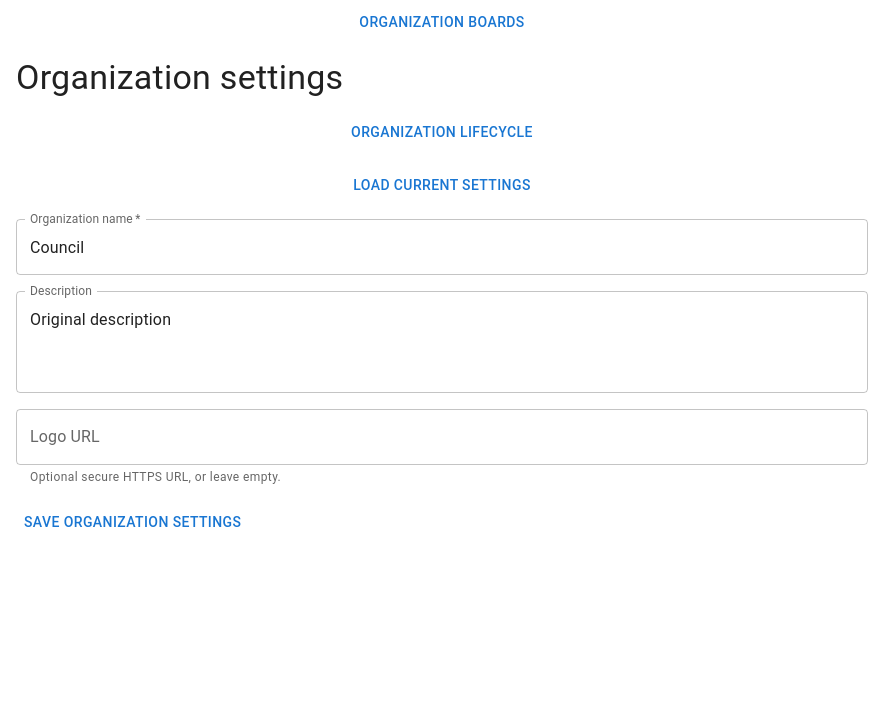
Test: PRD-03-TC-01/05/06/08 Organization metadata administration › preserves a submitted edit and exact retry key when its final account check is unavailable
This screenshot has width=885, height=701.
Expected: the field labelled "Organization name *" is shown, [16,220,868,276]
Click the button "Save Organization settings" at x=133, y=523, box [16,504,249,541]
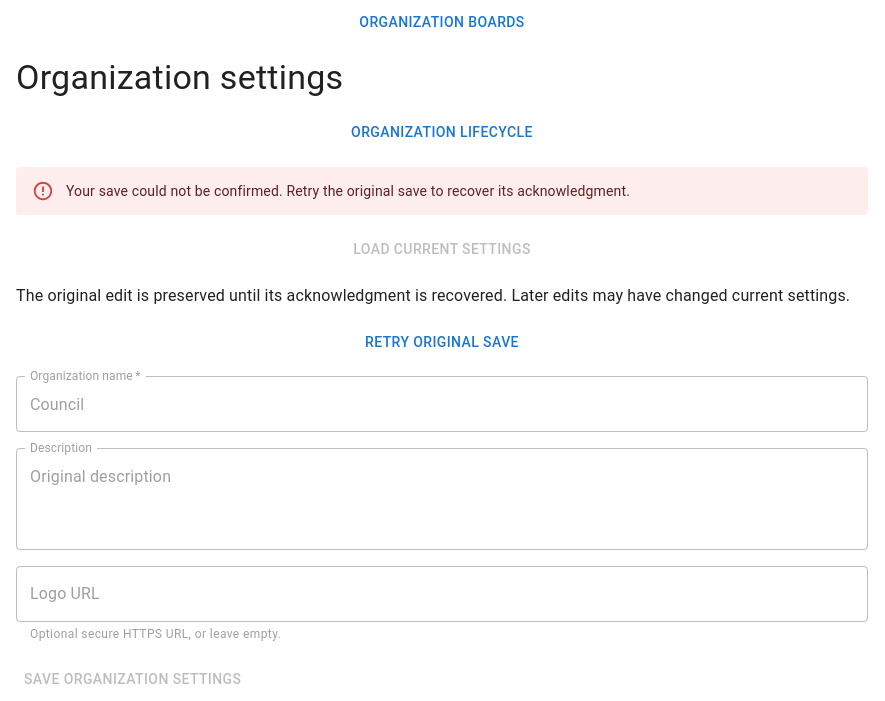
Click the button "Retry original save" at x=442, y=342, box [16,324,868,360]
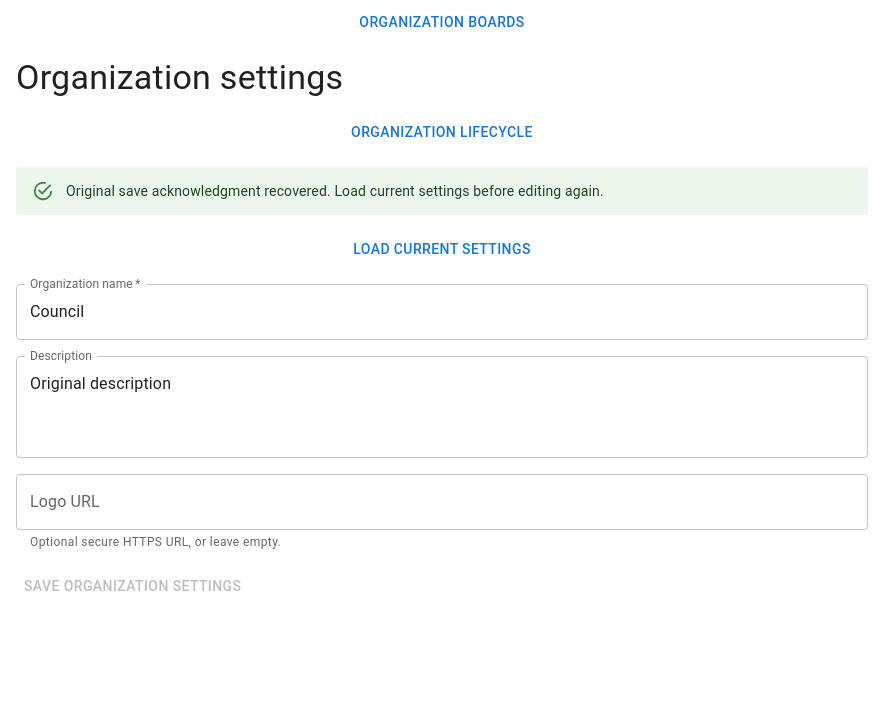
Now the text "Original save acknowledgment recovered" is shown, box [66,183,604,199]
